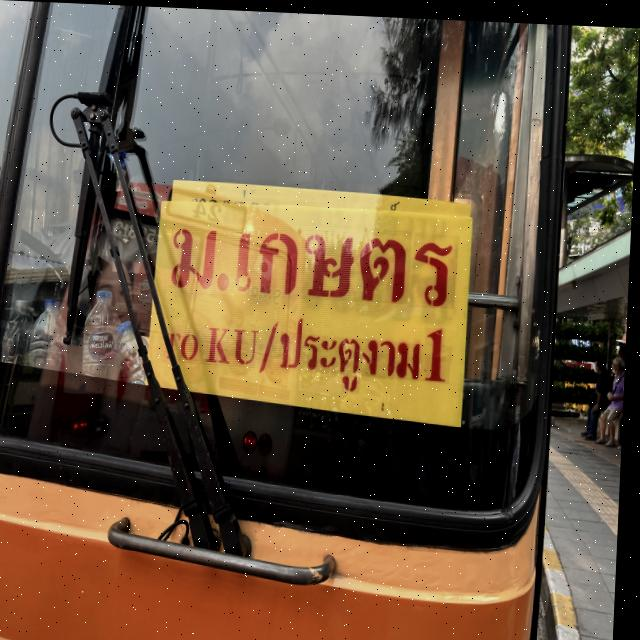BMTA-bus: (0, 0, 574, 640)
Destination-Sign-Extra-Bus-Expressway: (152, 196, 475, 422)
